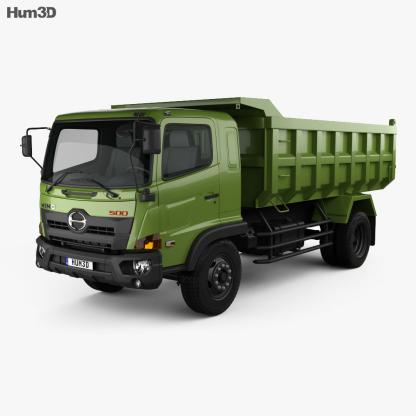dump_truck: (28, 88, 408, 310)
